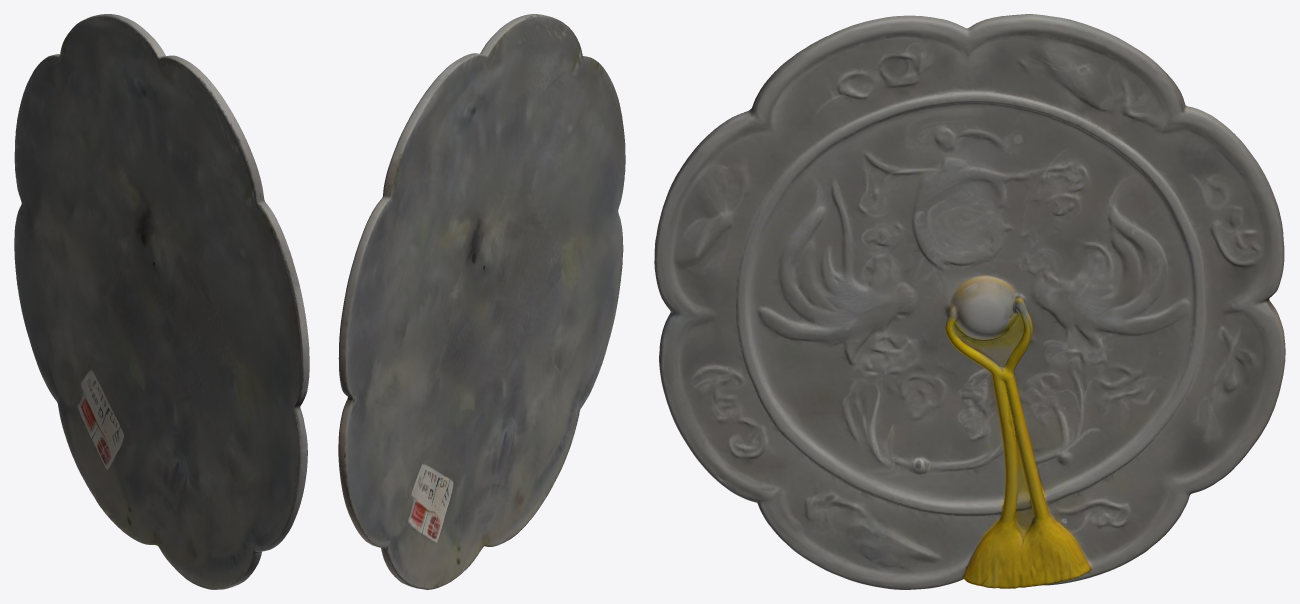
File: mirror-textured.gltf
The picture shows the model from 3 angles, left to right: view 1: azimuth 30°, elevation 25°; view 2: azimuth 150°, elevation 25°; view 3: azimuth 270°, elevation 25°; orthographic projection. The views are drawn at different scales.
Visible parts, largest first — view 1: tripo_node_2b17d926-7bb3-4138-8f7d-5e6b00a0a0be; view 2: tripo_node_2b17d926-7bb3-4138-8f7d-5e6b00a0a0be; view 3: tripo_node_2b17d926-7bb3-4138-8f7d-5e6b00a0a0be.
Boxes of the visible parts, x1,y1,x2,y2 form: tripo_node_2b17d926-7bb3-4138-8f7d-5e6b00a0a0be: (14, 14, 309, 589); tripo_node_2b17d926-7bb3-4138-8f7d-5e6b00a0a0be: (338, 14, 625, 589); tripo_node_2b17d926-7bb3-4138-8f7d-5e6b00a0a0be: (654, 14, 1285, 589).
Size of the model in its own units: 0.0573 by 0.9993 by 1.
Materials: 1 (1 with a texture image).
